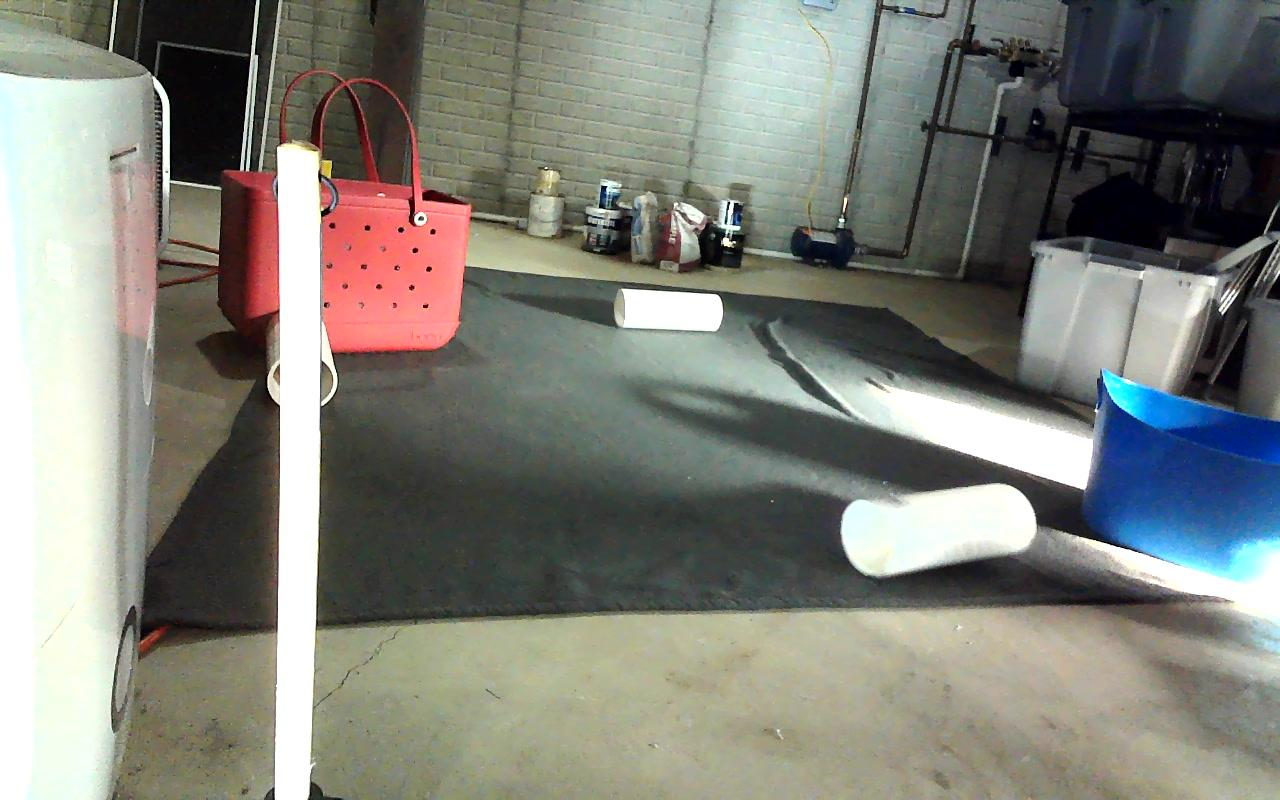coral: (841, 484, 1035, 576), (267, 310, 336, 407), (615, 286, 722, 332)
